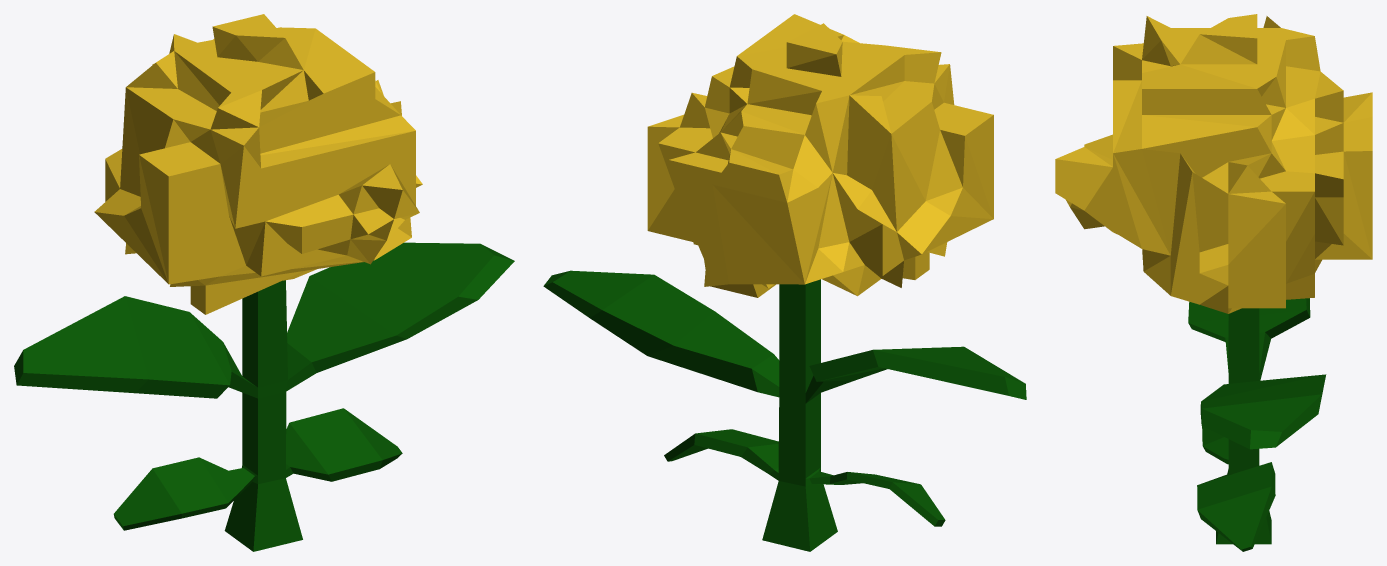
File: Prąd1.fbx
3 views of the same model, side by side, from view 1: azimuth 30°, elevation 25°; view 2: azimuth 150°, elevation 25°; view 3: azimuth 270°, elevation 25° (orthographic). The views are drawn at different scales.
Parts seen in each view (by area): view 1: Icosphere.001, Cube.002; view 2: Icosphere.001, Cube.002; view 3: Icosphere.001, Cube.002.
Boxes of the visible parts, x1,y1,x2,y2 form: Icosphere.001: [94, 14, 422, 314]; Cube.002: [14, 242, 514, 551]; Icosphere.001: [647, 14, 993, 297]; Cube.002: [543, 270, 1026, 551]; Icosphere.001: [1055, 14, 1372, 313]; Cube.002: [1188, 298, 1326, 551].
Bounding box in the file's own units: 0.831 × 0.8255 × 0.4767.
